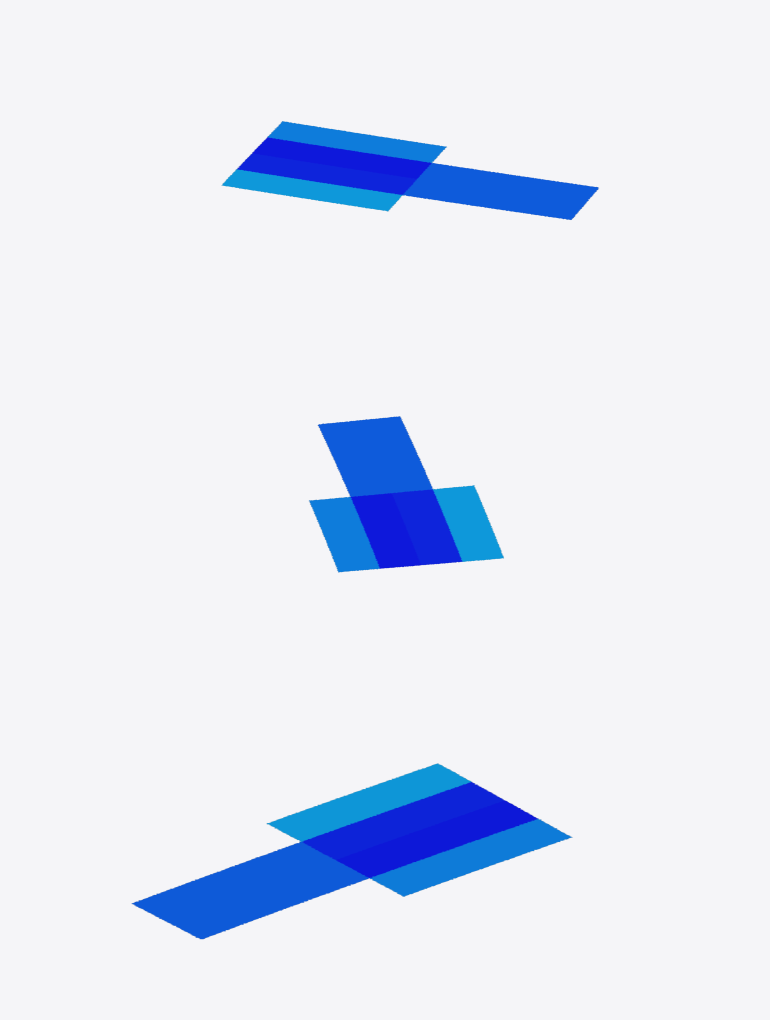
File: KGRR_20030327_055042_REF_0150-55030.png.dae
3 renders of one model, top to bottom at view 1: azimuth 30°, elevation 25°; view 2: azimuth 150°, elevation 25°; view 3: azimuth 270°, elevation 25°, orthographic. The views are drawn at different scales.
Visible parts, largest first — view 1: TIN; view 2: TIN; view 3: TIN.
Part boxes in pixels (<box>): TIN: <box>221,121,598,219</box>; TIN: <box>309,416,503,572</box>; TIN: <box>131,763,572,939</box>.
Size of the model in its own units: 12647 by 13741 by 357.
Materials: 1 (1 with a texture image).
